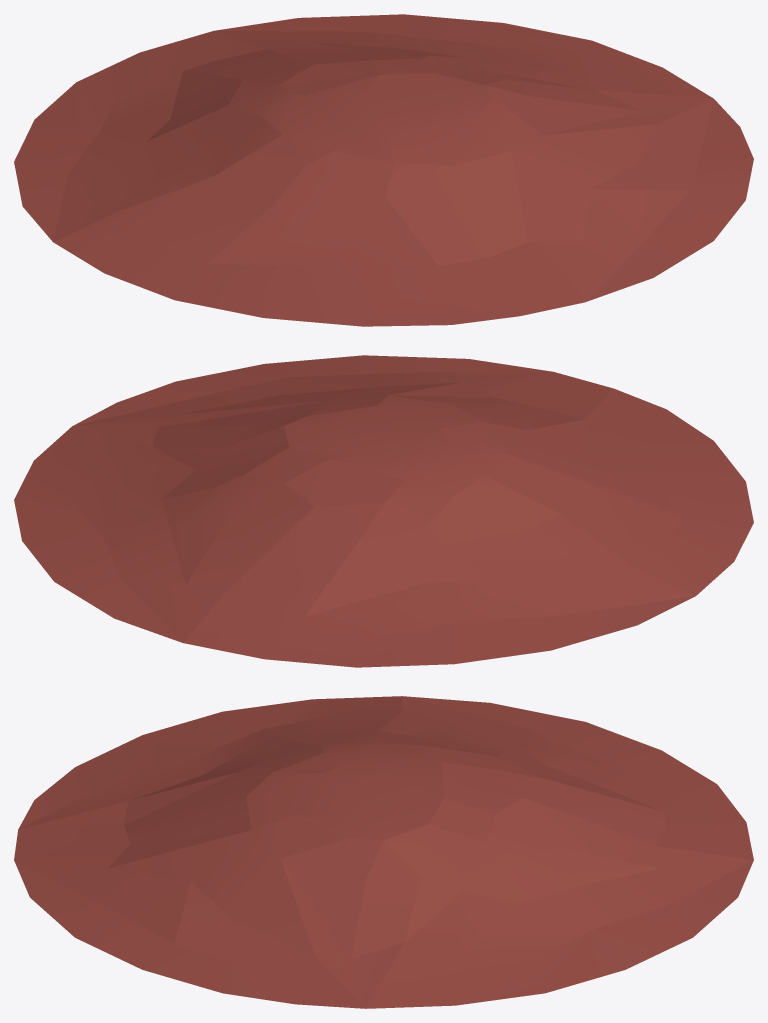
Rendered from entity114946.glb.
The picture shows the model from 3 angles, top to bottom: view 1: azimuth 30°, elevation 25°; view 2: azimuth 150°, elevation 25°; view 3: azimuth 270°, elevation 25°; orthographic projection.
Parts seen in each view (by area): view 1: node_SM_Env_Ground_01 (2); view 2: node_SM_Env_Ground_01 (2); view 3: node_SM_Env_Ground_01 (2).
Boxes of the visible parts, left/top/right/bottom form: node_SM_Env_Ground_01 (2): left=14, top=14, right=753, bottom=326; node_SM_Env_Ground_01 (2): left=14, top=355, right=753, bottom=667; node_SM_Env_Ground_01 (2): left=14, top=696, right=753, bottom=1008.
Bounding box in the file's own units: 72.06 × 7.3 × 72.06.
1 material, 1 textured.
